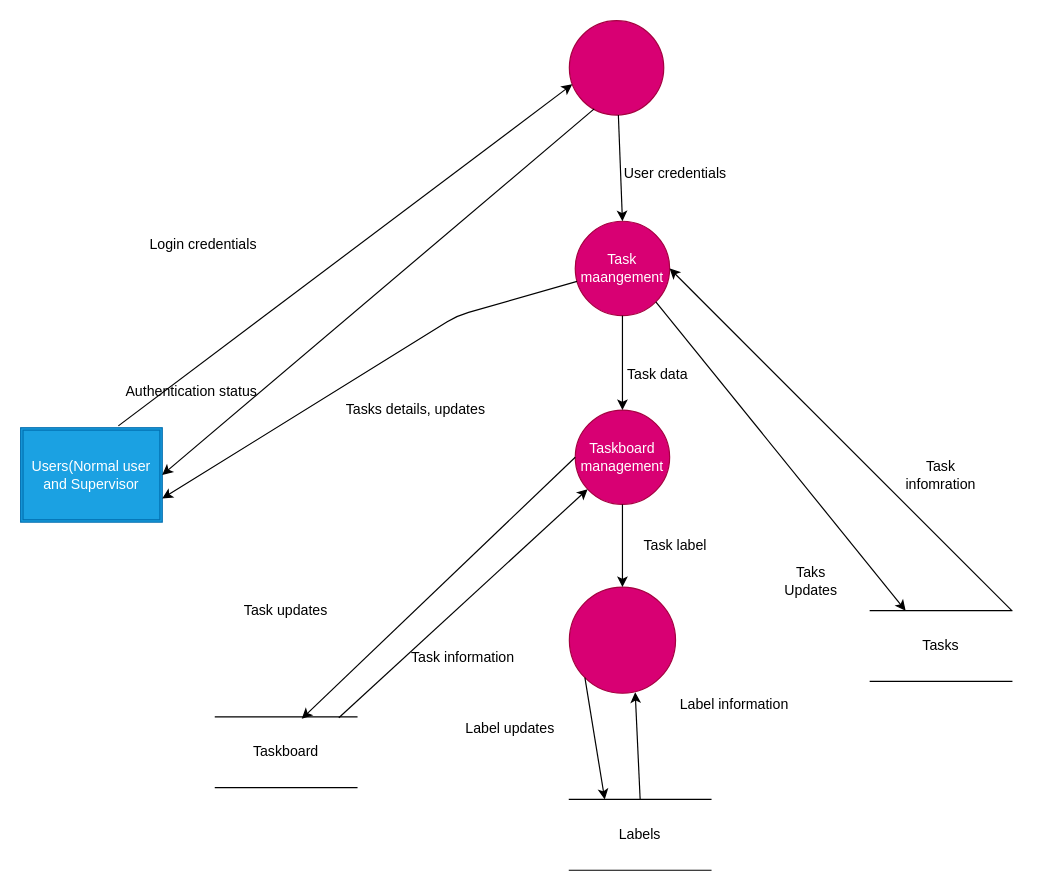
Image size: 1042x891. Some labels were removed from this diagram. The shapes that lost their labels are listed below. From the top down, each one's centre as x and y in pixels, then its label:
the point at 616,67: User Authentication
the point at 622,639: Label management
